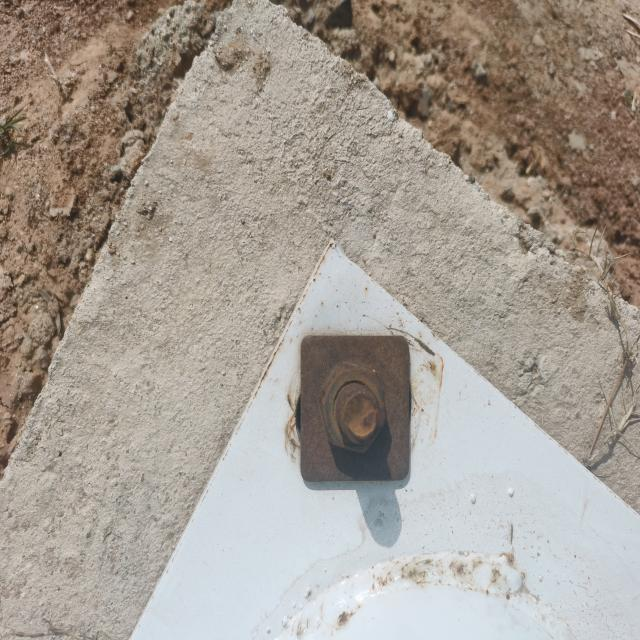bolt nut: (318, 360, 389, 456)
